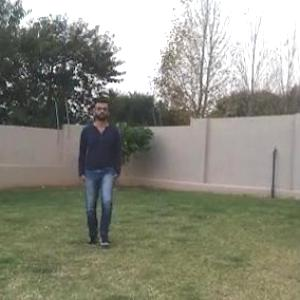follow: (82, 100, 118, 246)
